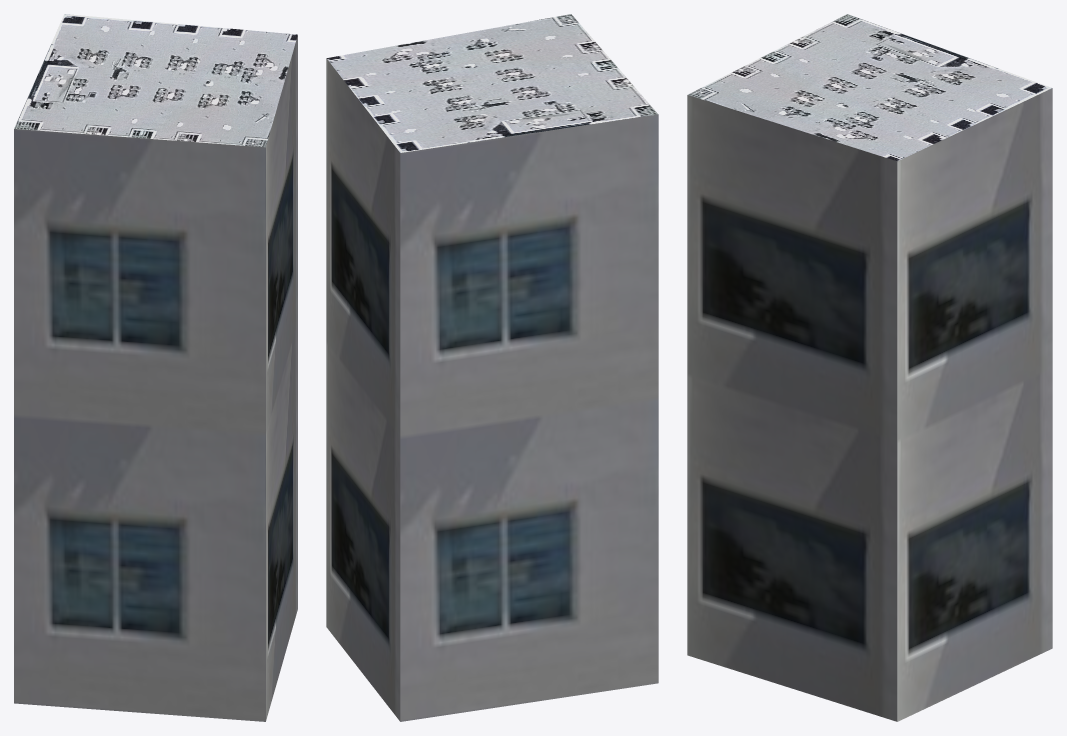
Rendered from ResTex__3440.fbx.
3 views of the same model, side by side, from view 1: azimuth 30°, elevation 25°; view 2: azimuth 150°, elevation 25°; view 3: azimuth 270°, elevation 25° (orthographic). The views are drawn at different scales.
Visible parts, largest first — view 1: CityEngineMaterial_10_m, CityEngineMaterial_4_m; view 2: CityEngineMaterial_10_m, CityEngineMaterial_4_m; view 3: CityEngineMaterial_10_m, CityEngineMaterial_4_m.
Boxes of the visible parts, left/top/right/bottom form: CityEngineMaterial_10_m: left=14, top=35, right=297, bottom=721; CityEngineMaterial_4_m: left=14, top=14, right=297, bottom=147; CityEngineMaterial_10_m: left=326, top=58, right=658, bottom=721; CityEngineMaterial_4_m: left=326, top=14, right=657, bottom=152; CityEngineMaterial_10_m: left=687, top=88, right=1052, bottom=721; CityEngineMaterial_4_m: left=688, top=14, right=1051, bottom=161.
Bounding box in the file's own units: 3.38 × 6 × 3.54.
2 materials, 2 textured.
